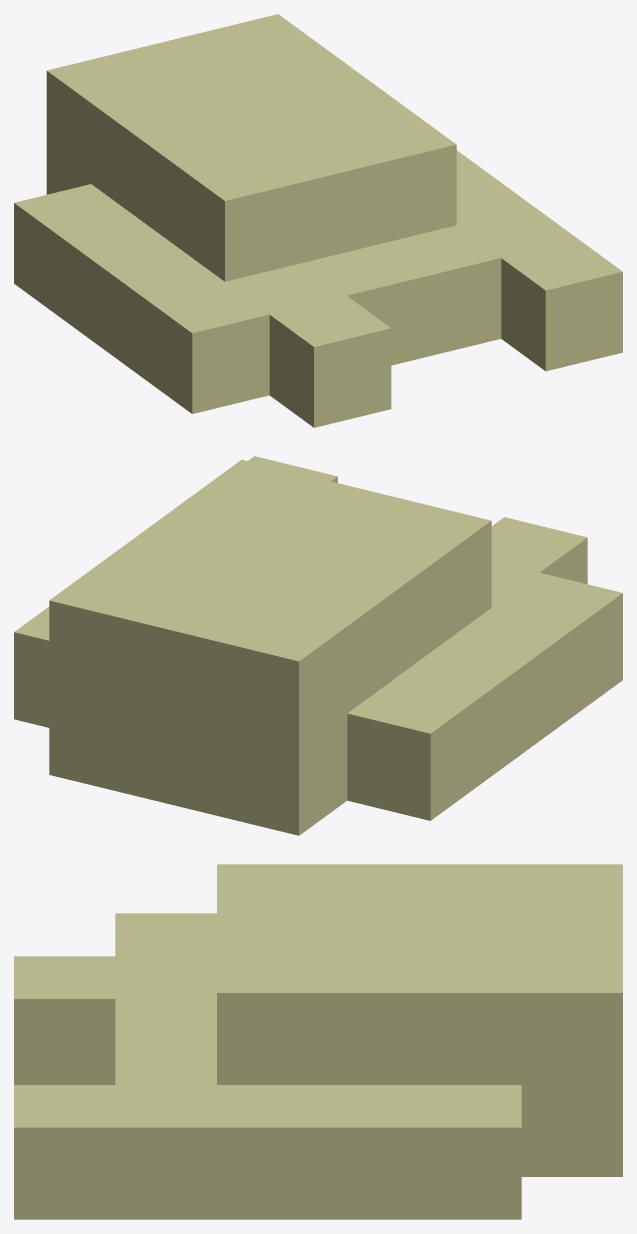
The model's file is caveira-3.obj.
The picture shows the model from 3 angles, top to bottom: view 1: azimuth 30°, elevation 25°; view 2: azimuth 150°, elevation 25°; view 3: azimuth 270°, elevation 25°; orthographic projection. The views are drawn at different scales.
Bounding box in the file's own units: 0.5 × 0.2 × 0.6.
Materials: 1 (1 with a texture image).
